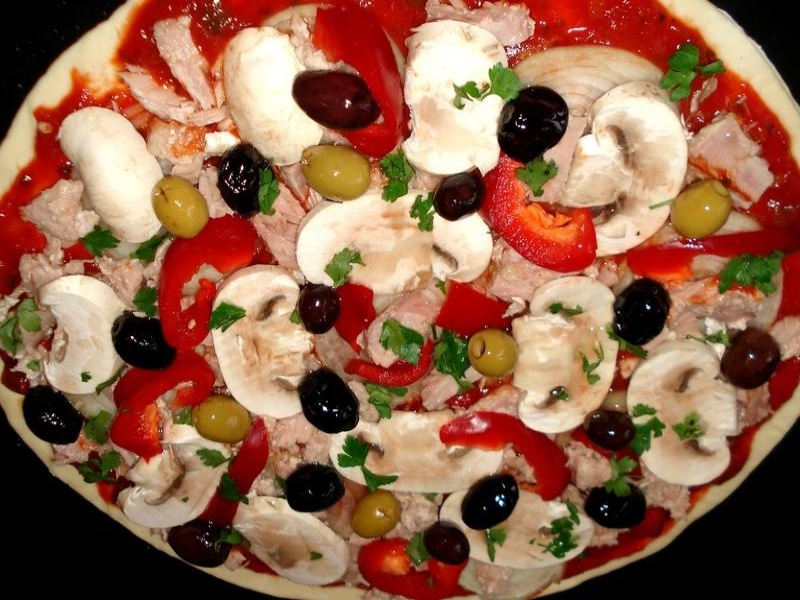champignon: (284, 187, 499, 303), (561, 80, 686, 265), (205, 260, 325, 423), (625, 335, 748, 491), (503, 273, 621, 431), (329, 408, 512, 494), (117, 422, 236, 532)
olive: (486, 84, 580, 164), (289, 63, 385, 135), (599, 273, 686, 351), (657, 176, 751, 247), (209, 138, 286, 222), (298, 361, 373, 440), (15, 382, 95, 455), (295, 139, 377, 209), (145, 170, 223, 243), (712, 319, 791, 391), (105, 306, 185, 374), (423, 168, 500, 224), (164, 514, 239, 571), (458, 323, 528, 383), (580, 480, 659, 532), (456, 471, 523, 530), (184, 395, 259, 447), (340, 484, 407, 541), (281, 460, 350, 515), (581, 405, 648, 457), (293, 279, 349, 338), (417, 519, 483, 568)
